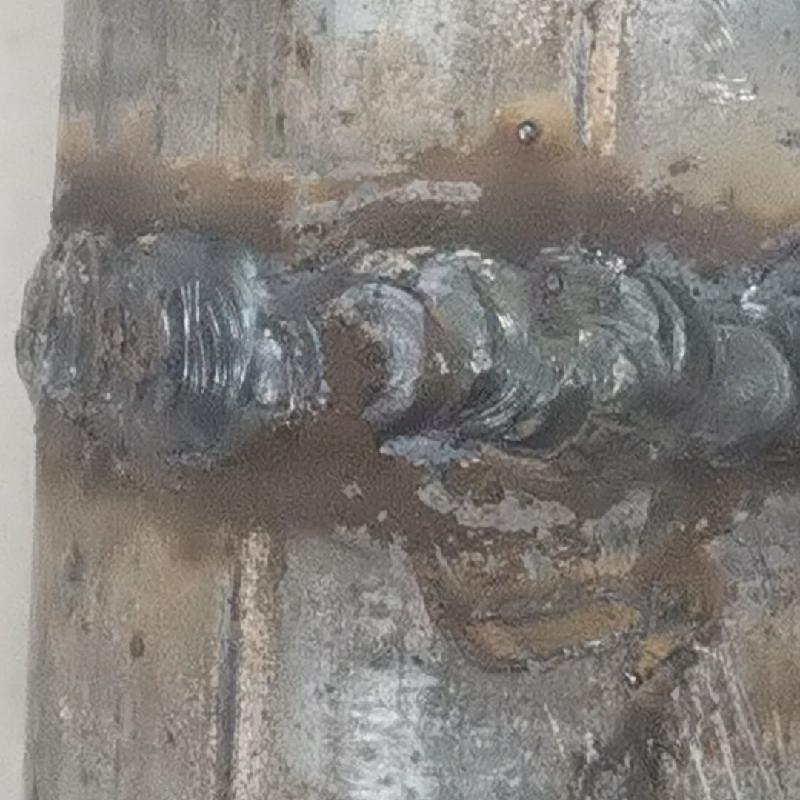good: (19, 221, 799, 466)
